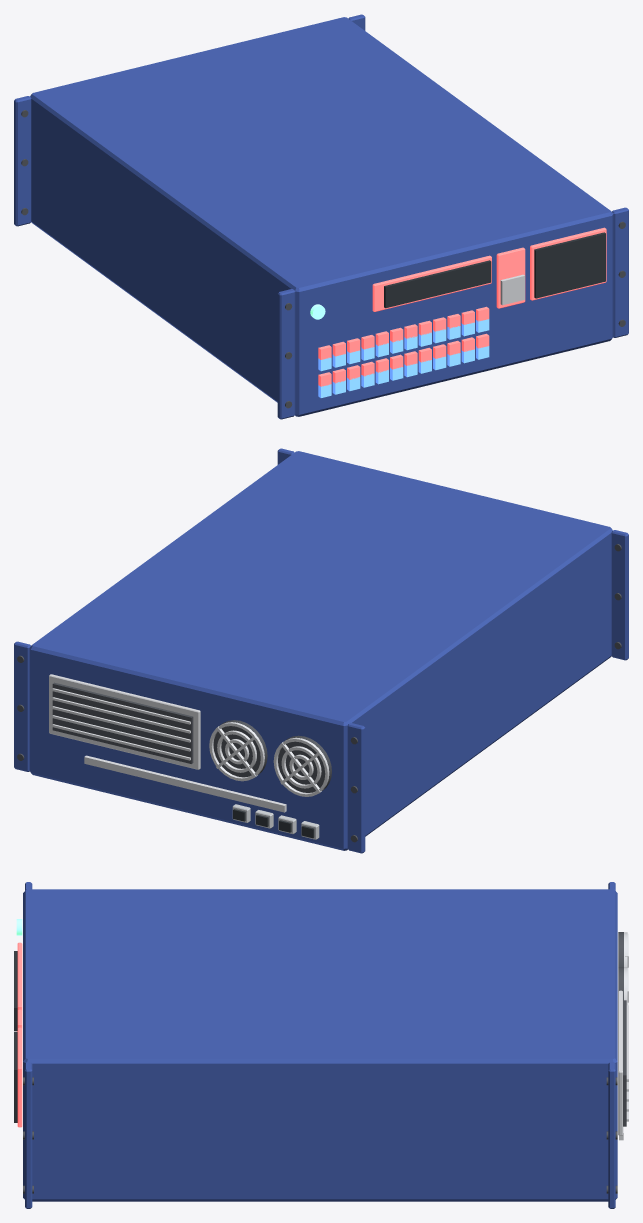
The model's file is dc_server_blue.glb.
3 renders of one model, top to bottom at view 1: azimuth 30°, elevation 25°; view 2: azimuth 150°, elevation 25°; view 3: azimuth 270°, elevation 25°, orthographic. The views are drawn at different scales.
Visible parts, largest first — view 1: Server_Chassis_Body, Front_UI_And_Displays, Front_Drive_Indicators; view 2: Server_Chassis_Body, Rear_Fans_And_Radiator, Rear_Network_Ports; view 3: Server_Chassis_Body, Rear_Fans_And_Radiator, Front_UI_And_Displays.
Boxes of the visible parts, x1,y1,x2,y2 form: Server_Chassis_Body: [14, 14, 628, 419]; Front_UI_And_Displays: [310, 227, 606, 319]; Front_Drive_Indicators: [318, 306, 489, 397]; Server_Chassis_Body: [14, 448, 628, 853]; Rear_Fans_And_Radiator: [49, 674, 331, 796]; Rear_Network_Ports: [84, 755, 319, 839]; Server_Chassis_Body: [23, 882, 617, 1208]; Rear_Fans_And_Radiator: [618, 932, 628, 1135]; Front_UI_And_Displays: [14, 919, 22, 1127].
Bounding box in the file's own units: 0.488 × 0.172 × 0.6725.
